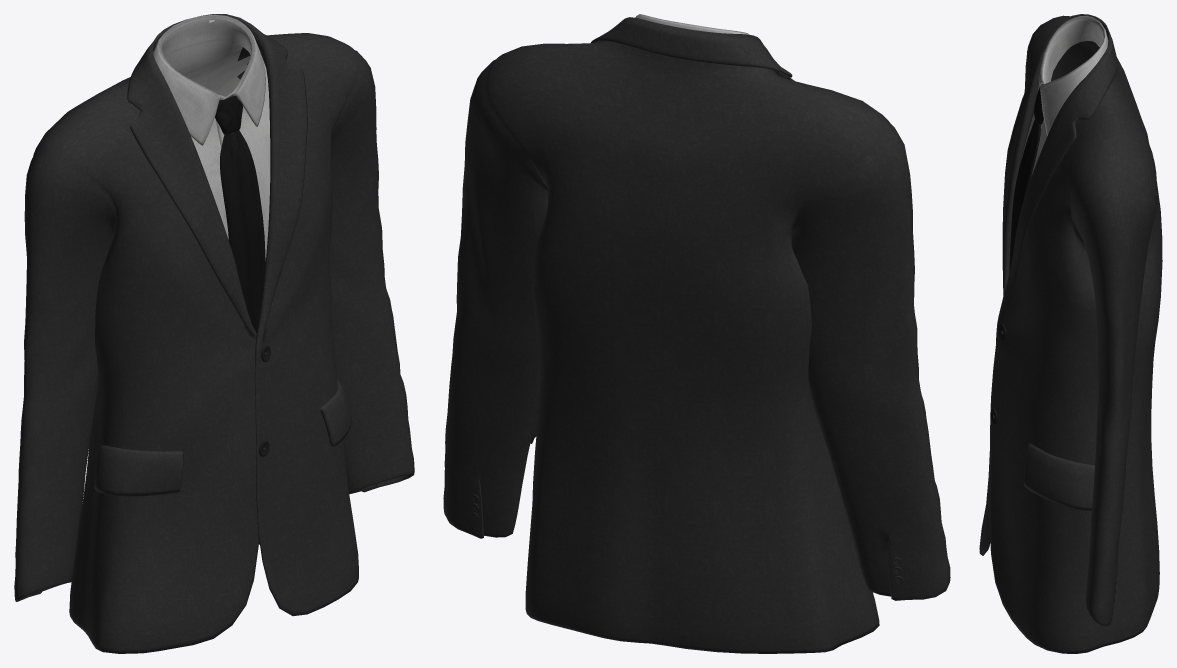
File: YMJ-西装.fbx
3 renders of one model, left to right at view 1: azimuth 30°, elevation 25°; view 2: azimuth 150°, elevation 25°; view 3: azimuth 270°, elevation 25°, orthographic. The views are drawn at different scales.
Parts seen in each view (by area): view 1: YMJ-西装; view 2: YMJ-西装; view 3: YMJ-西装.
Boxes of the visible parts, box(x1,y1,x2,y2) form: YMJ-西装: box(14, 14, 414, 653); YMJ-西装: box(443, 14, 950, 653); YMJ-西装: box(979, 14, 1162, 653).
Size of the model in its own units: 0.5742 by 0.2179 by 0.7341.
